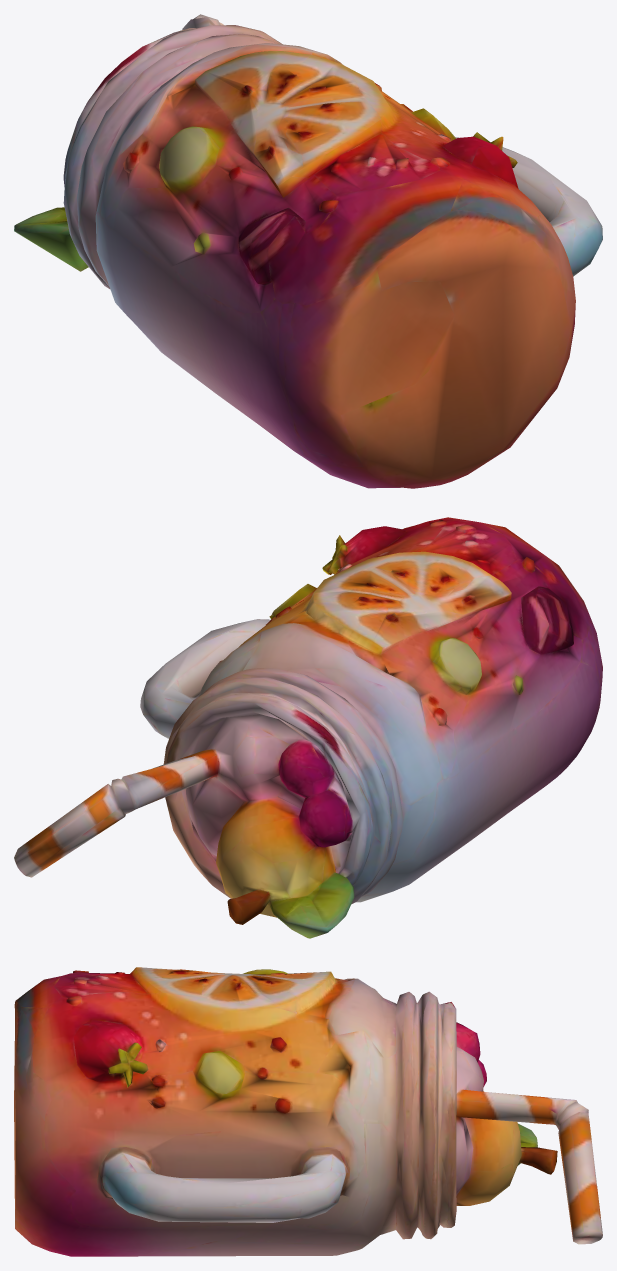
The picture shows the model from 3 angles, top to bottom: view 1: azimuth 30°, elevation 25°; view 2: azimuth 150°, elevation 25°; view 3: azimuth 270°, elevation 25°; orthographic projection. The views are drawn at different scales.
Parts seen in each view (by area): view 1: material; view 2: material; view 3: material.
Boxes of the visible parts, x1,y1,x2,y2 form: material: (14, 14, 602, 488); material: (14, 517, 602, 938); material: (14, 967, 602, 1256).
Bounding box in the file's own units: 0.6331 × 0.4872 × 1.
Materials: 1 (1 with a texture image).
